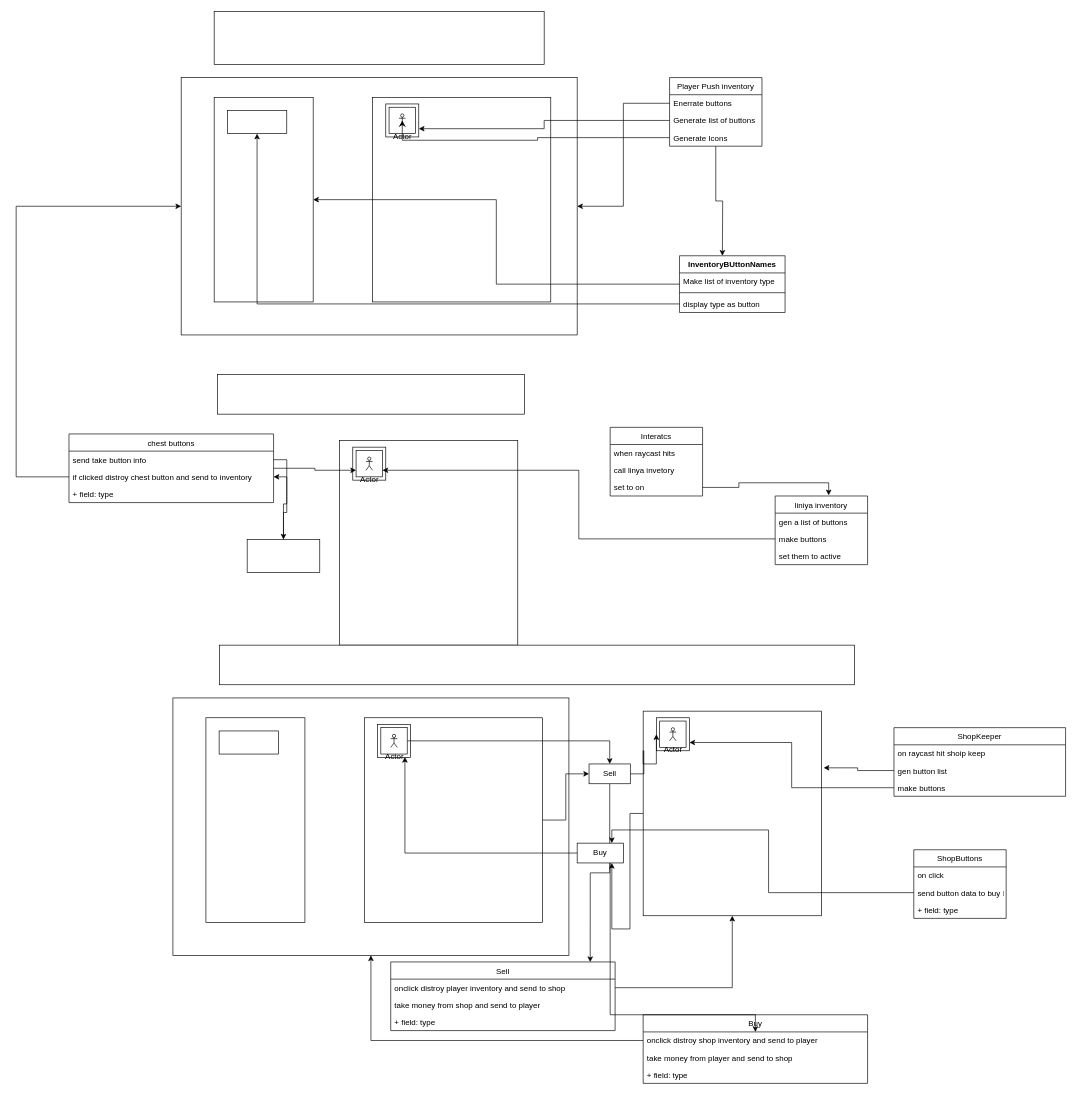
Some shapes in this 1077 by 1097 pixel diagram are drawn without their labels. Here are the shapes that lost their labels. From the top down, the centre of each, then its label:
(379,37): Player inventory
(370,394): Chest inventory
(283,556): take buttons
(536,664): Shop inventory
